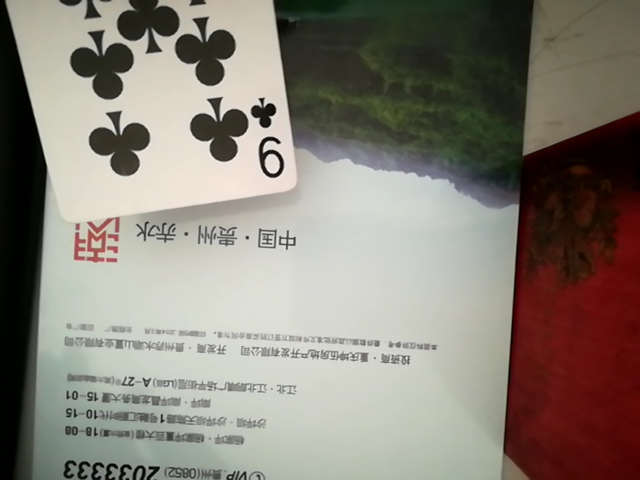mh 9: (9, 0, 293, 231)
